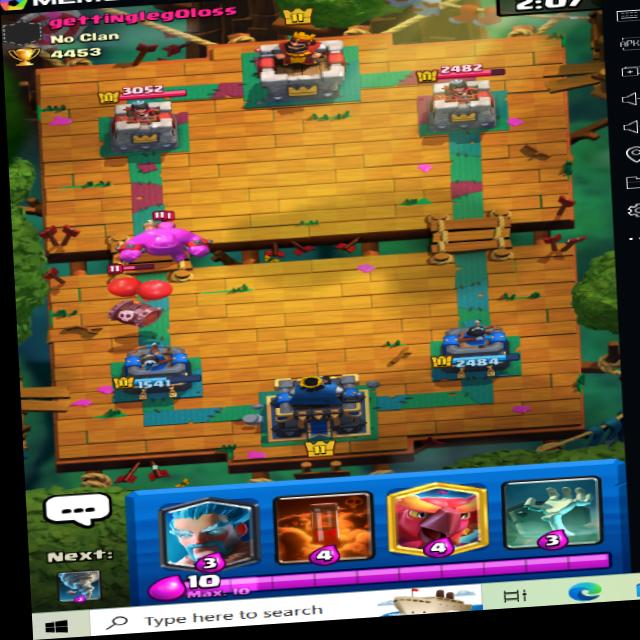electro-golem: (111, 219, 212, 272)
firecracker: (129, 202, 183, 236)
skeleton-barrel: (87, 261, 178, 343)
